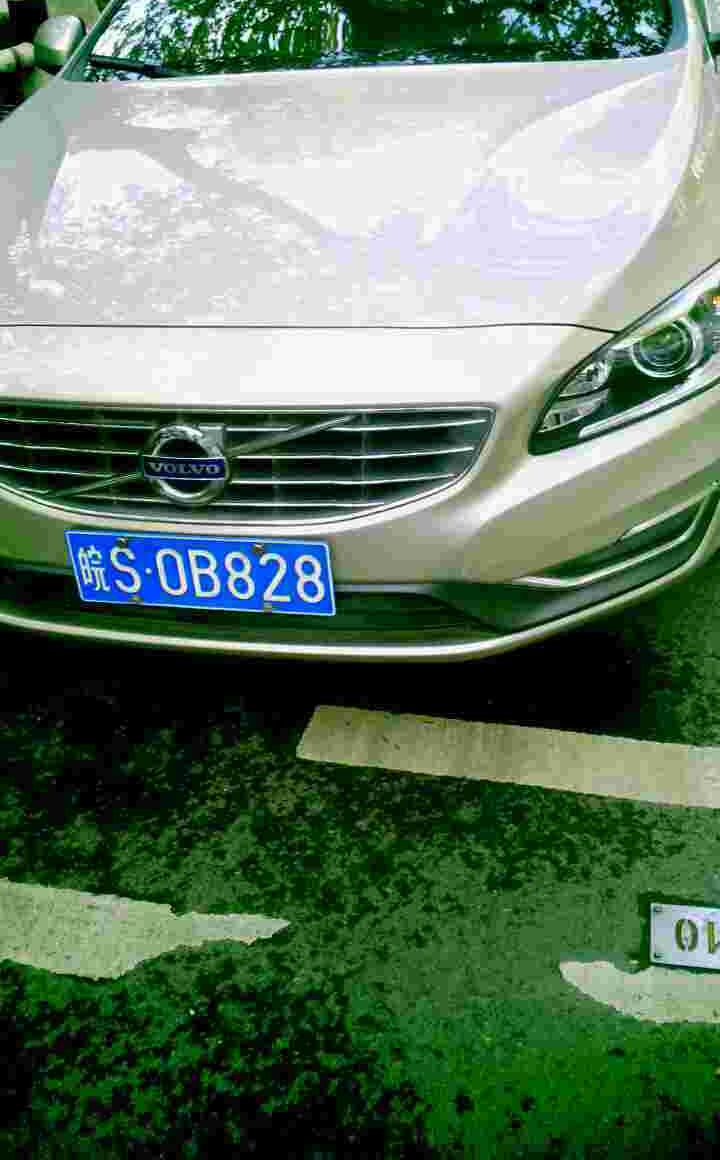license_plate: (68, 528, 348, 618)
